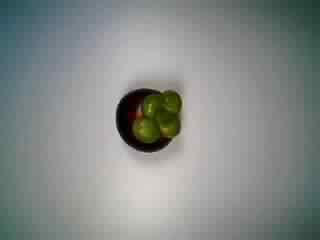mangosteen: (112, 73, 185, 153)
